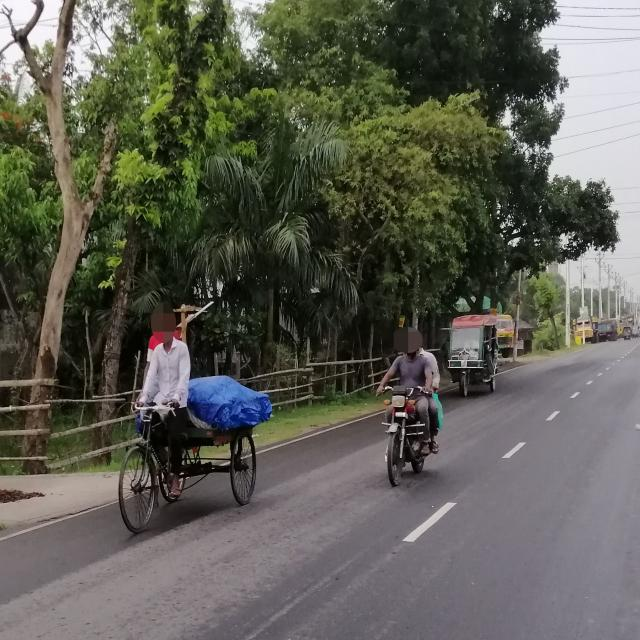Easybike: (445, 313, 504, 405)
Motorbike: (377, 379, 445, 491)
Van: (108, 365, 271, 537)
